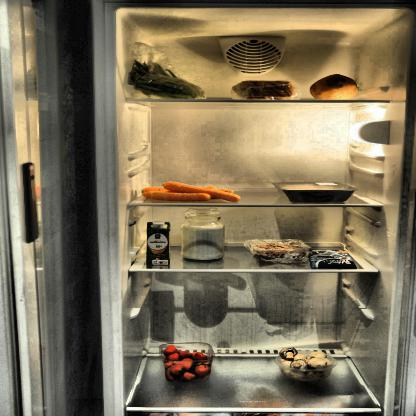carrot: (141, 182, 243, 203)
chocolate: (306, 247, 362, 269)
green_beans: (128, 58, 209, 101)
heavy_cream: (144, 220, 176, 268)
mushrooms: (279, 345, 337, 381)
shrimp: (251, 240, 307, 258)
strawberries: (162, 341, 214, 382)
sweet_potato: (307, 74, 367, 102)
